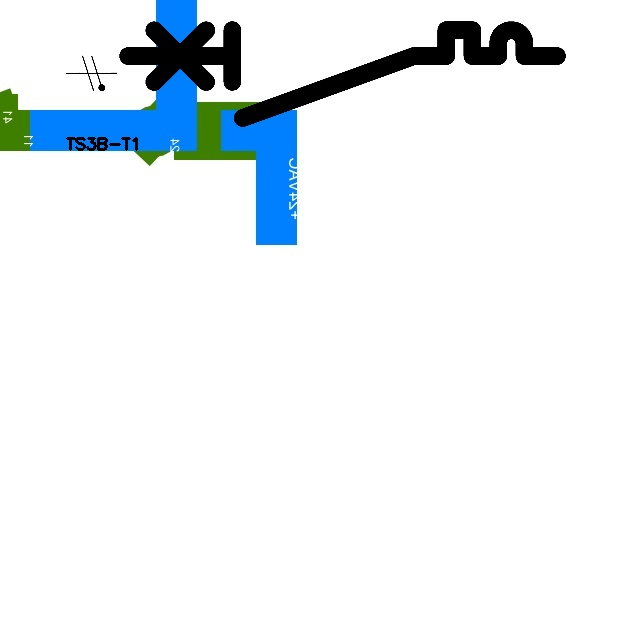interruptor_termomagnetico: (117, 19, 568, 129)
